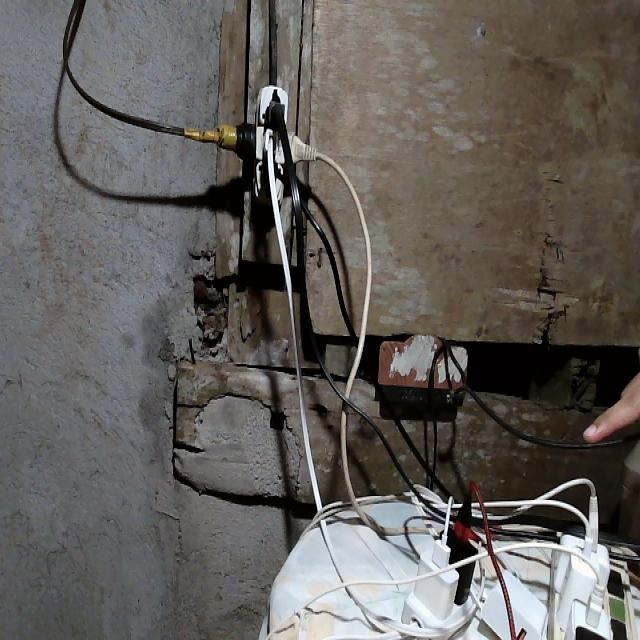-: (204, 80, 315, 209)
